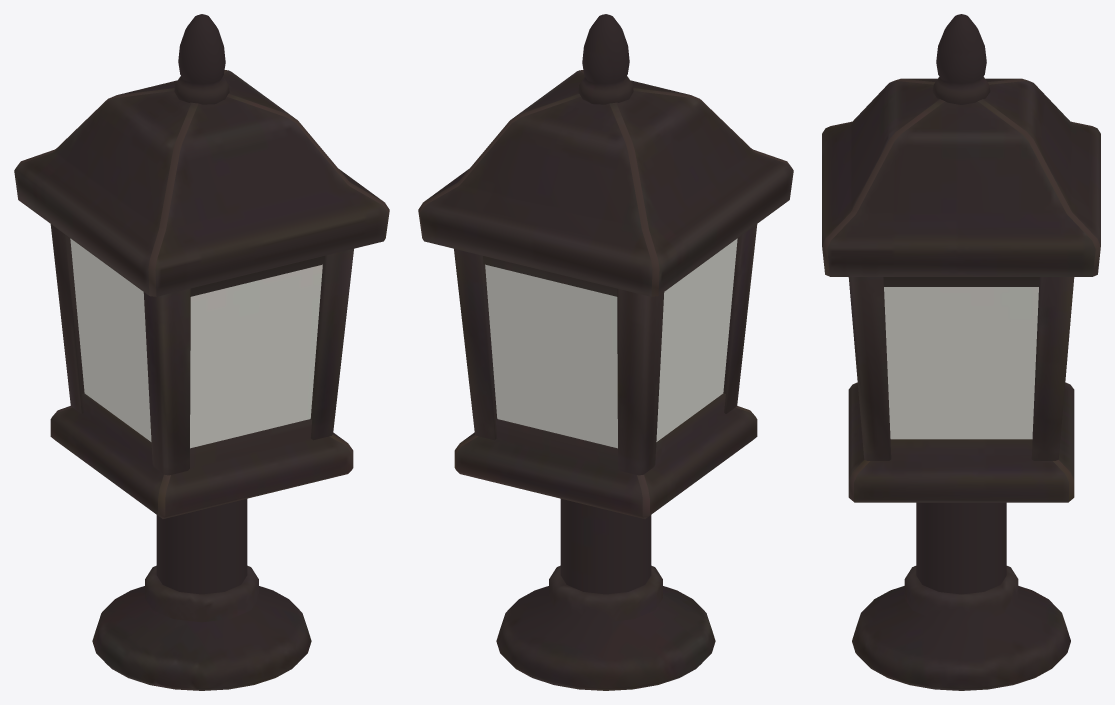
3 renders of one model, left to right at view 1: azimuth 30°, elevation 25°; view 2: azimuth 150°, elevation 25°; view 3: azimuth 270°, elevation 25°, orthographic.
Size of the model in its own units: 3.77 by 9.44 by 3.77.
Materials: 1 (1 with a texture image).
